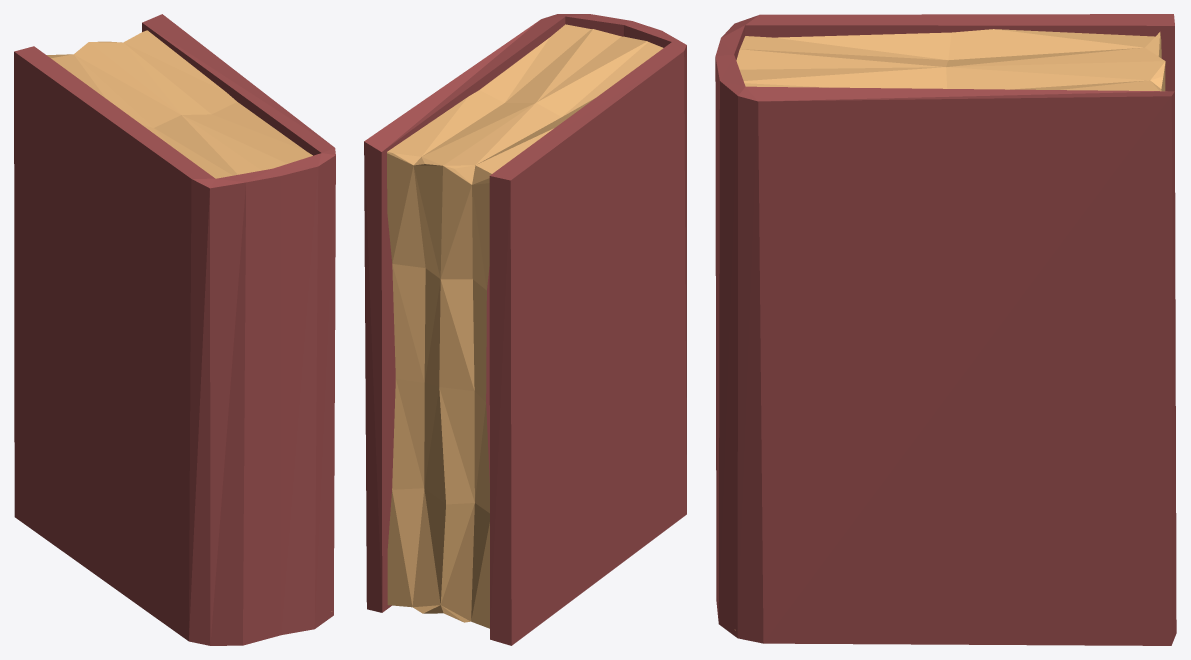
File: SFHW_Book_004.fbx
3 views of the same model, side by side, from view 1: azimuth 30°, elevation 25°; view 2: azimuth 150°, elevation 25°; view 3: azimuth 270°, elevation 25° (orthographic). The views are drawn at different scales.
Visible parts, largest first — view 1: SFHW_Book_004; view 2: SFHW_Book_004; view 3: SFHW_Book_004.
Part boxes in pixels (bbox=[...]): SFHW_Book_004: bbox=[14, 14, 335, 645]; SFHW_Book_004: bbox=[364, 14, 686, 645]; SFHW_Book_004: bbox=[715, 14, 1176, 645].
Size of the model in its own units: 10.47 by 31.64 by 23.92.
